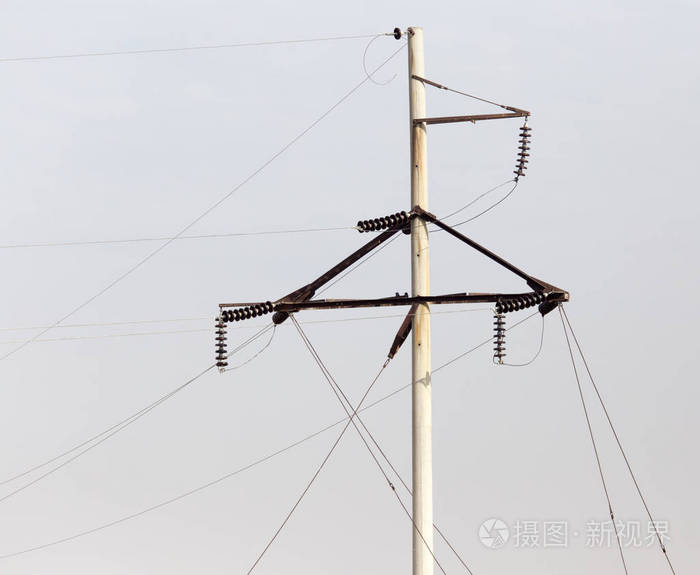insulator: (355, 210, 410, 235), (224, 300, 274, 325), (493, 294, 545, 314), (512, 125, 531, 176), (213, 316, 228, 369), (495, 313, 508, 359)
